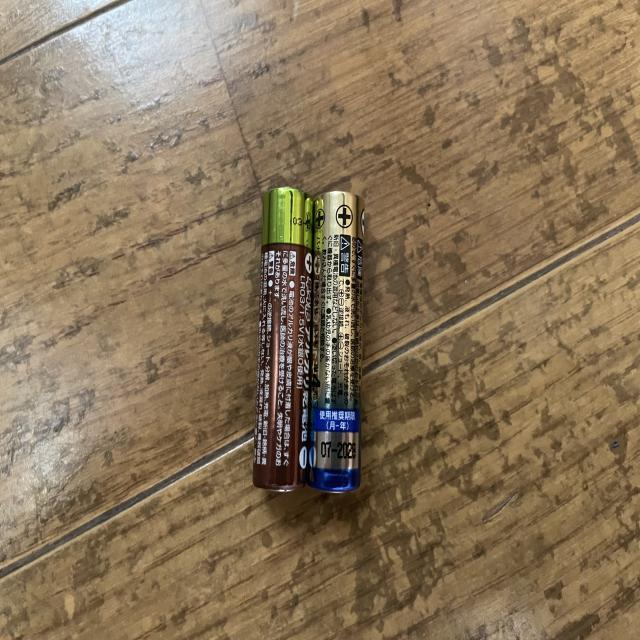hazardous waste: (248, 172, 318, 497), (304, 180, 373, 507)
